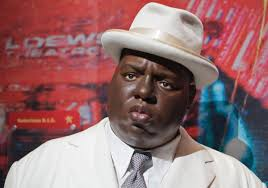black_male: (110, 57, 199, 155)
